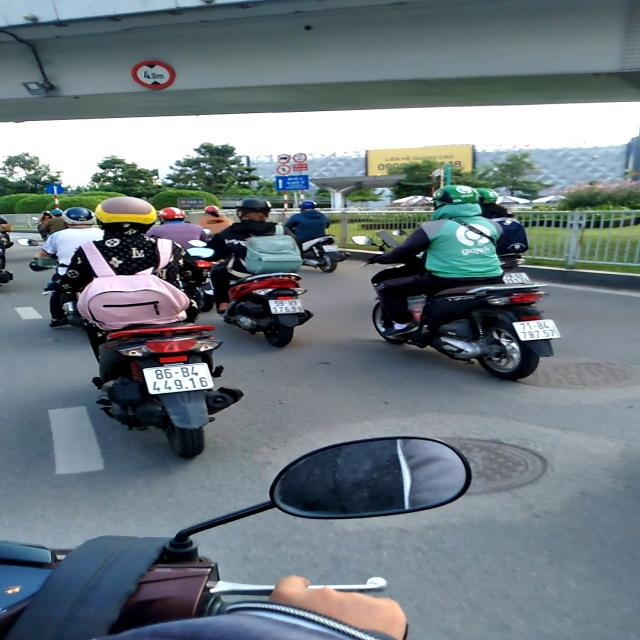P.117: (131, 60, 176, 89)
